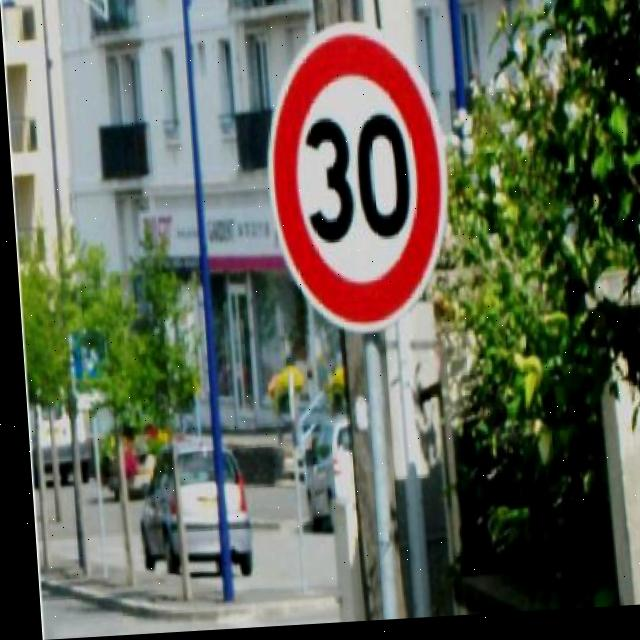Speed limit 30: (254, 21, 455, 343)
